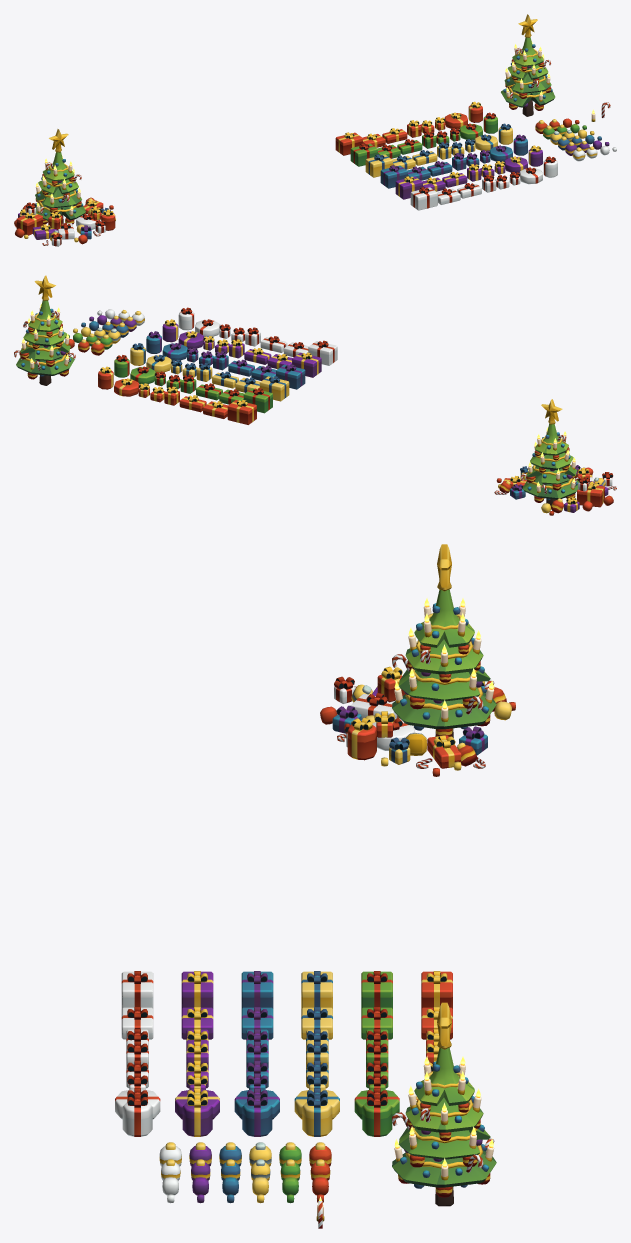
Rendered from Weihnachtsbaum.glb.
The picture shows the model from 3 angles, top to bottom: view 1: azimuth 30°, elevation 25°; view 2: azimuth 150°, elevation 25°; view 3: azimuth 270°, elevation 25°; orthographic projection. The views are drawn at different scales.
Parts seen in each view (by area): view 1: arrangement, christmas_tree, presi_square_1_white, presi_square_1_purple, presi_square_1_green, presi_square_1_yellow, presi_square_1_blue, presi_square_1_red, presi_round_1_white; view 2: arrangement, christmas_tree, presi_square_1_red, presi_square_1_yellow, presi_square_1_blue, presi_square_1_purple, presi_square_1_white, presi_square_1_green, presi_round_1_red, presi_round_1_purple, presi_round_1_white, presi_round_1_green (+4 smaller); view 3: arrangement, christmas_tree, presi_square_1_blue, presi_square_1_purple, presi_square_1_white, presi_square_1_yellow, presi_square_1_green, presi_square_1_red, presi_round_2_green, presi_round_2_yellow, presi_round_2_blue, presi_round_2_purple (+1 smaller).
Part boxes in pixels (<box>): arrangement: <box>14,129,115,246</box>; christmas_tree: <box>501,14,555,116</box>; presi_square_1_white: <box>410,187,437,210</box>; presi_square_1_purple: <box>395,176,422,199</box>; presi_square_1_green: <box>350,143,377,166</box>; presi_square_1_yellow: <box>365,154,392,177</box>; presi_square_1_blue: <box>380,165,407,188</box>; presi_square_1_red: <box>335,132,362,155</box>; presi_round_1_white: <box>519,167,542,184</box>; arrangement: <box>494,399,616,515</box>; christmas_tree: <box>14,275,75,385</box>; presi_square_1_red: <box>227,400,256,424</box>; presi_square_1_yellow: <box>259,376,289,401</box>; presi_square_1_blue: <box>276,364,305,389</box>; presi_square_1_purple: <box>292,352,321,377</box>; presi_square_1_white: <box>308,340,337,365</box>; presi_square_1_green: <box>243,388,272,413</box>; presi_round_1_red: <box>114,378,139,396</box>; presi_round_1_purple: <box>178,331,203,349</box>; presi_round_1_white: <box>195,319,220,337</box>; presi_round_1_green: <box>130,366,155,384</box>; arrangement: <box>320,544,515,776</box>; christmas_tree: <box>392,1002,496,1206</box>; presi_square_1_blue: <box>241,971,273,1008</box>; presi_square_1_purple: <box>181,971,213,1008</box>; presi_square_1_white: <box>121,971,153,1008</box>; presi_square_1_yellow: <box>301,971,332,1008</box>; presi_square_1_green: <box>361,971,392,1008</box>; presi_square_1_red: <box>421,971,452,1008</box>; presi_round_2_green: <box>362,1094,392,1136</box>; presi_round_2_yellow: <box>302,1094,332,1136</box>; presi_round_2_blue: <box>242,1094,272,1136</box>; presi_round_2_purple: <box>182,1094,212,1136</box>.
Bounding box in the file's own units: 4397 × 741 × 1339.
Materials: 1 (1 with a texture image).
